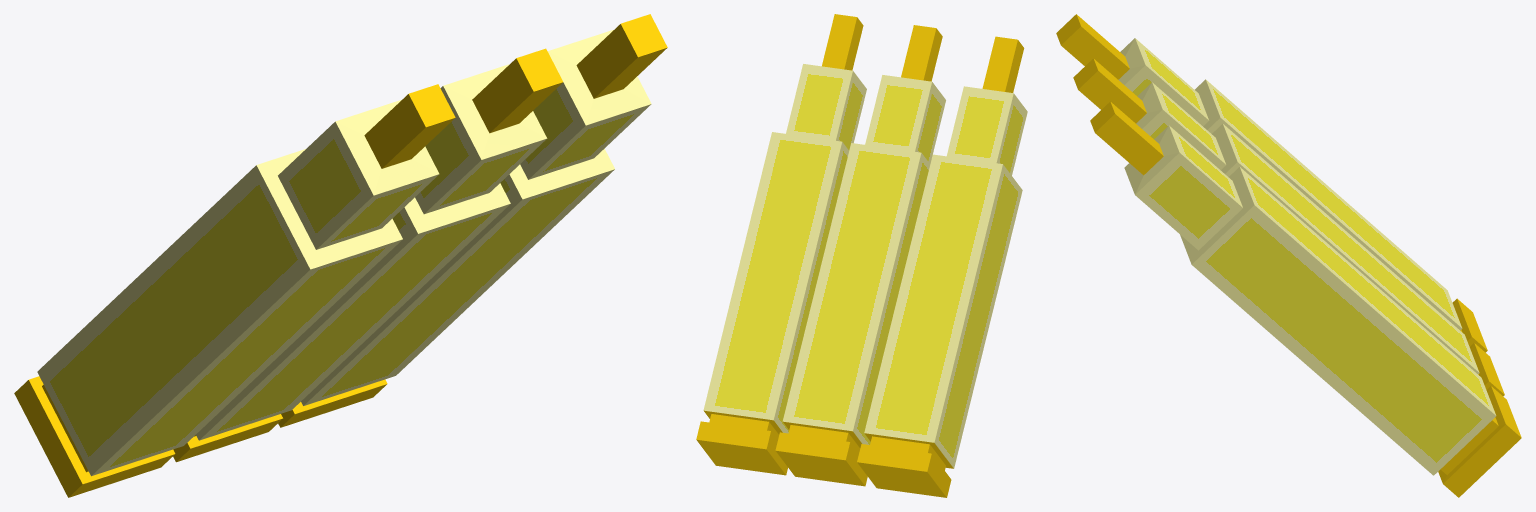
The model's file is BGN-AMMO PU.fbx.
3 renders of one model, left to right at view 1: azimuth 30°, elevation 25°; view 2: azimuth 150°, elevation 25°; view 3: azimuth 270°, elevation 25°, orthographic. The views are drawn at different scales.
Parts seen in each view (by area): view 1: BGN_AMMO_PU; view 2: BGN_AMMO_PU; view 3: BGN_AMMO_PU.
Part boxes in pixels (bbox=[...]): BGN_AMMO_PU: bbox=[14, 14, 667, 497]; BGN_AMMO_PU: bbox=[696, 14, 1027, 497]; BGN_AMMO_PU: bbox=[1056, 14, 1521, 497].
Size of the model in its own units: 39.25 by 50.31 by 52.64.
Materials: 1 (1 with a texture image).
